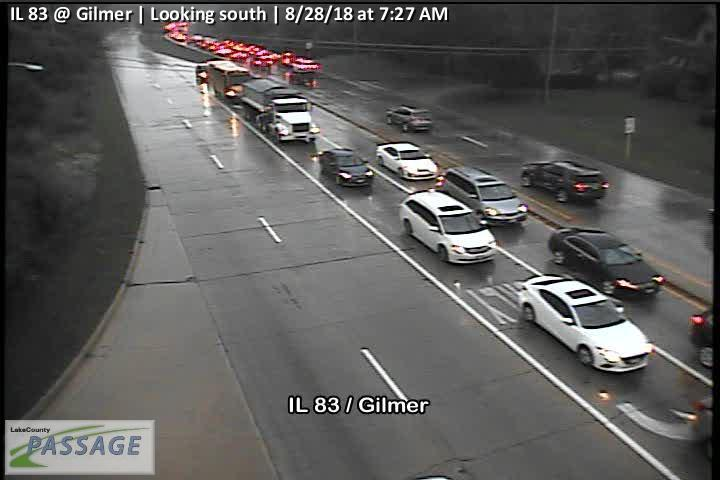SUV: (399, 190, 500, 265), (444, 165, 529, 228), (519, 158, 611, 204), (383, 103, 434, 135)
Sedan: (519, 270, 652, 373), (548, 225, 662, 303), (375, 141, 439, 182), (318, 149, 375, 189)
Truck: (241, 77, 320, 147), (206, 59, 250, 103)
